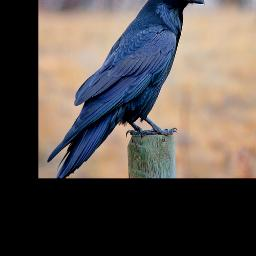Crow: (47, 0, 207, 178)
